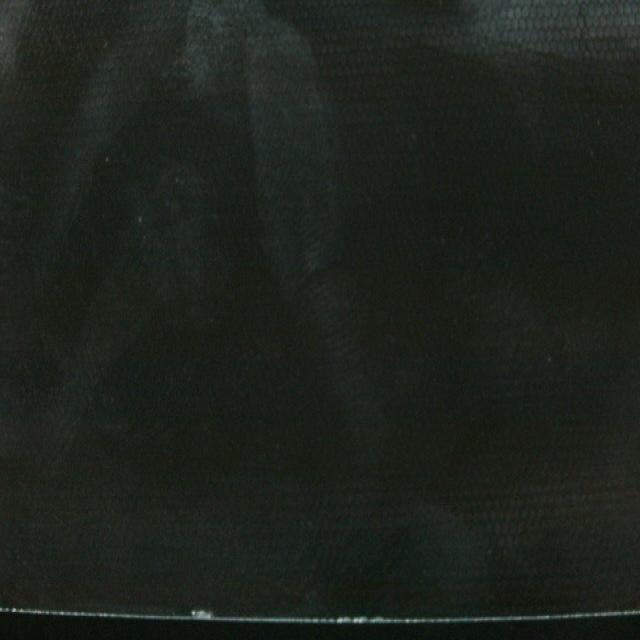edge_chip: (186, 597, 224, 630)
